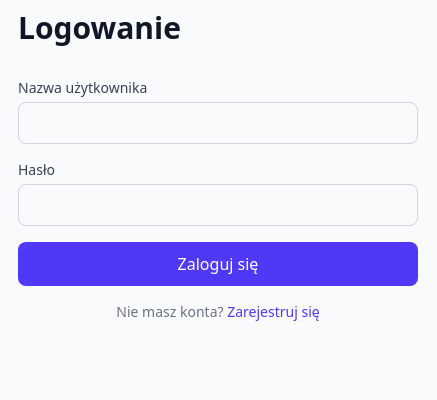
Test: LoginPage — interactions › shows error message on failed login
Type "jan" into the field labelled "Nazwa użytkownika".
click(218, 123); type("jan")  # box top-left (18, 102), bottom-right (418, 144)
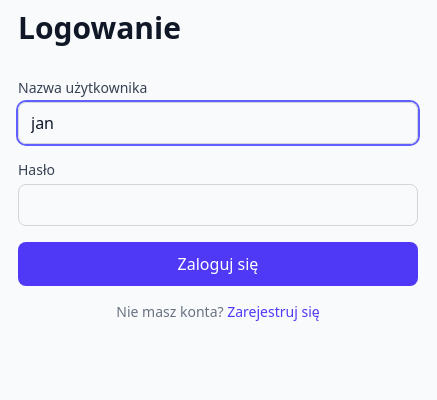
Type "wrong" into the password field labelled "Hasło".
click(218, 205); type("wrong")  # box top-left (18, 184), bottom-right (418, 226)
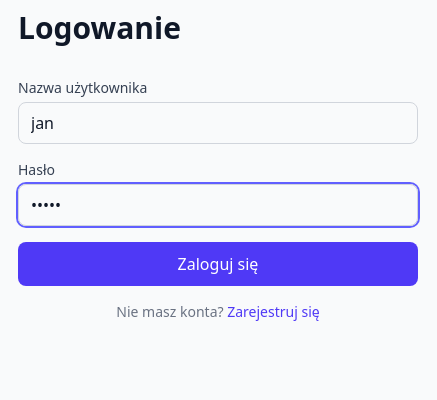
Click the button "Zaloguj się".
click(218, 264)  # box top-left (18, 242), bottom-right (418, 286)
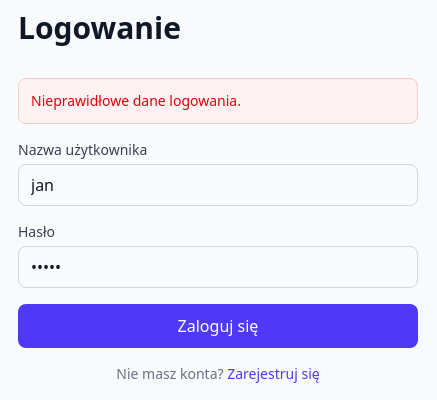
Expected: the text "Nieprawidłowe dane logowania." is shown, top-left (18, 78), bottom-right (418, 124)
